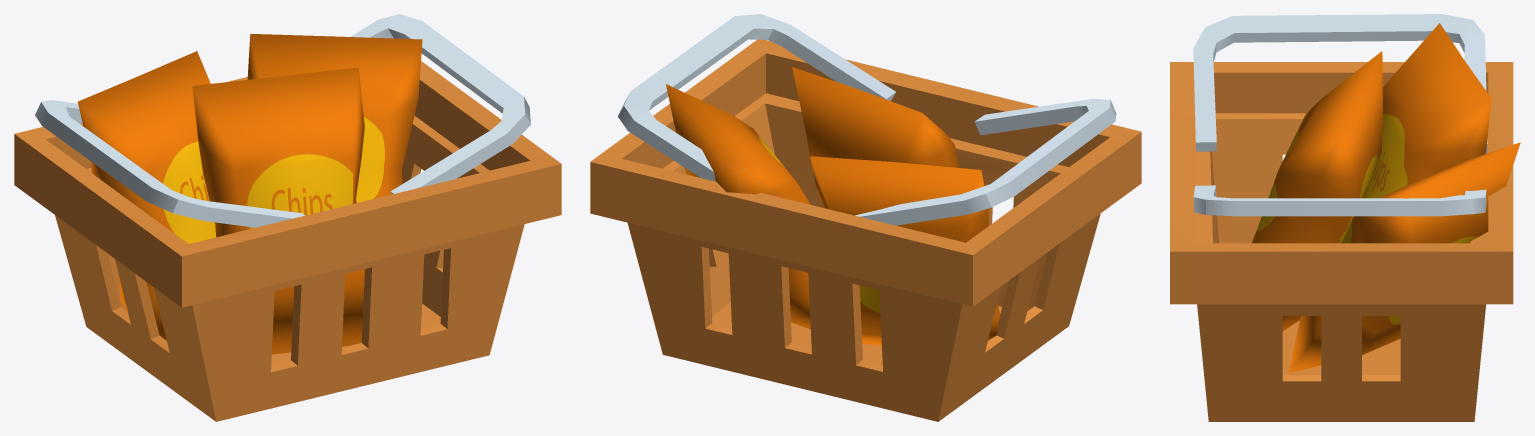
Rendered from ChipsCart.fbx.
3 renders of one model, left to right at view 1: azimuth 30°, elevation 25°; view 2: azimuth 150°, elevation 25°; view 3: azimuth 270°, elevation 25°, orthographic. The views are drawn at different scales.
Parts seen in each view (by area): view 1: polySurface15; view 2: polySurface15; view 3: polySurface15.
Part boxes in pixels (bbox=[...]): polySurface15: bbox=[14, 14, 561, 421]; polySurface15: bbox=[590, 14, 1141, 421]; polySurface15: bbox=[1170, 14, 1520, 421].
Size of the model in its own units: 14.71 by 9.43 by 11.31.
